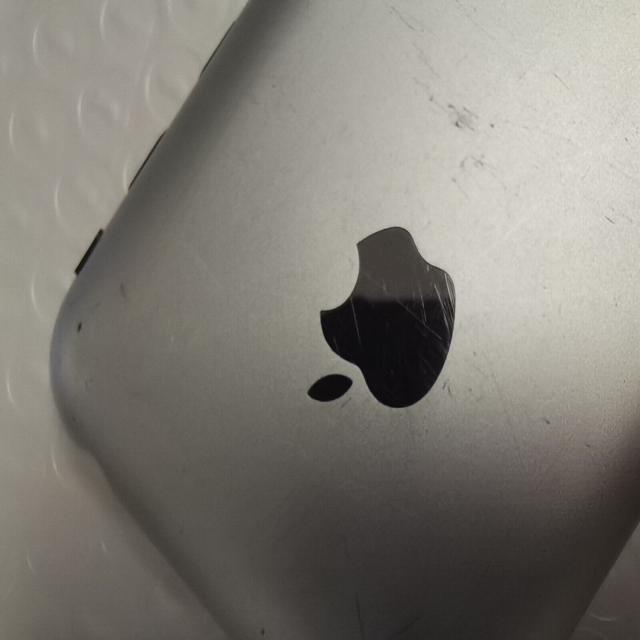Dents: (432, 73, 513, 175), (547, 58, 606, 120), (72, 307, 106, 345)
